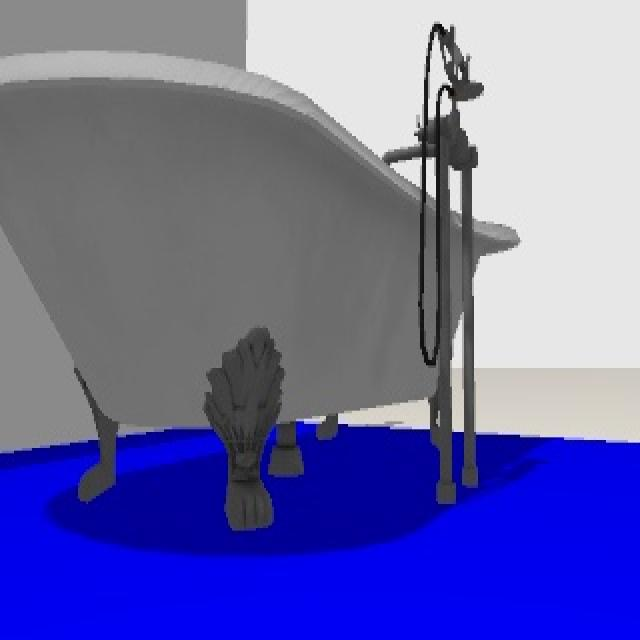bathtub: (2, 23, 520, 539)
